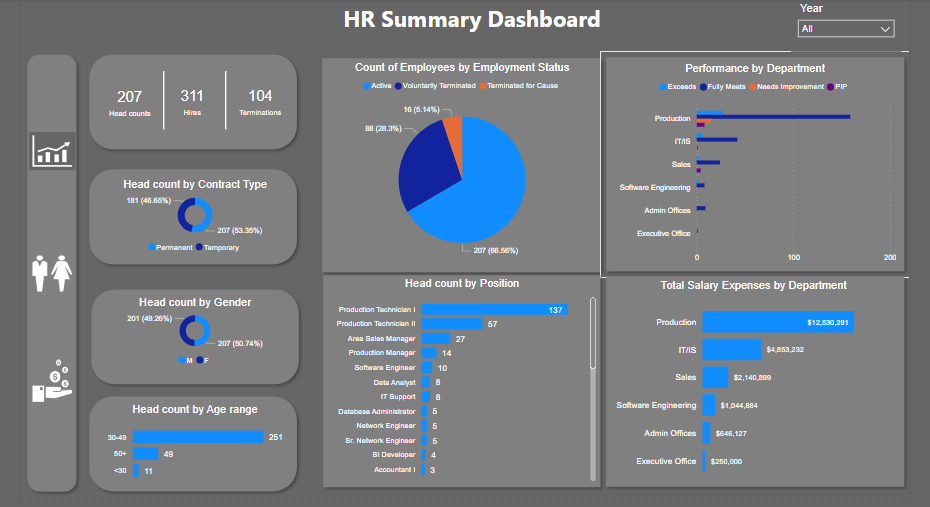

The dashboard page shown, as its layout file describes it:
{"tool":"powerbi","page":{"name":"Summary","canvas":[1280,720],"ordinal":0},"visuals":[{"type":"textbox","box":[426.7,0,446.8,60.5],"z":0},{"type":"shape","box":[88.7,70.5,317.5,154.5],"z":1000},{"type":"shape","box":[88.7,236.8,317.5,154.5],"z":2000},{"type":"shape","box":[92,409,317,155],"z":3000},{"type":"shape","box":[88.7,563.7,317.5,154.5],"z":4000},{"type":"shape","box":[424.4,75.9,419.2,326],"z":5000},{"type":"shape","box":[833.2,75.6,446.8,325.9],"z":6000},{"type":"shape","box":[426.1,388.1,417.5,322.6],"z":7000},{"type":"shape","box":[833.2,389.7,446.8,320.8],"z":8000},{"type":"shape","box":[0,70.9,89.3,647.8],"z":9000},{"type":"shape","box":[193.2,104.1,25.2,84],"z":10000},{"type":"shape","box":[282.2,104.1,25.2,84],"z":11000},{"type":"pieChart","title":"Count of Employees by Employment Status","fields":{"Y":["CountNonNull(HRDataset_v14.EmploymentStatus)"],"Category":["HRDataset_v14.EmploymentStatus"]},"box":[438.2,89.7,395,298.4],"z":12000},{"type":"clusteredBarChart","title":"Performance by Department","fields":{"Category":["HRDataset_v14.Department"],"Series":["HRDataset_v14.PerformanceScore"],"Y":["CountNonNull(HRDataset_v14.Department)"]},"box":[848.7,91.4,417.5,296.7],"z":13000},{"type":"slicer","fields":{"Values":["HRDataset_v14.DateofHire.Variation.Date Hierarchy.Year"]},"box":[1109.2,0,158.7,75.9],"z":14000},{"type":"donutChart","title":"Head count by Contract Type","fields":{"Category":["HRDataset_v14.Termd"],"Y":["HRDataset_v14.Cum_headCount"]},"box":[118,258,265,117],"z":15000},{"type":"donutChart","title":"Head count by Gender","fields":{"Category":["HRDataset_v14.Sex"],"Y":["HRDataset_v14.Cum_headCount"]},"box":[118,428,265,110],"z":16000},{"type":"clusteredBarChart","title":"Head count by Position","fields":{"Category":["HRDataset_v14.Position"],"Y":["CountNonNull(HRDataset_v14.EmpID)"]},"box":[438,400,395,299],"z":17000},{"type":"clusteredBarChart","title":"Head count by Age range","fields":{"Category":["HRDataset_v14.Age Category"],"Y":["CountNonNull(HRDataset_v14.Age)"]},"box":[118,582,265,122],"z":18000},{"type":"clusteredBarChart","title":"Total Salary Expenses by Department","fields":{"Category":["HRDataset_v14.Department"],"Y":["Sum(HRDataset_v14.Salary)"]},"box":[843,403,425,299],"z":19000},{"type":"card","title":"Head counts","fields":{"Values":["HRDataset_v14.Cum_headCount"]},"box":[119,108.7,74.2,79.4],"z":20000},{"type":"card","title":"Hires","fields":{"Values":["CountNonNull(HRDataset_v14.DateofHire)"]},"box":[212,104,70,84],"z":21000},{"type":"card","title":"Terminations","fields":{"Values":["HRDataset_v14.TerminationCount"]},"box":[300,107,90,79],"z":22000},{"type":"image","title":"Summary","box":[11.3,191.4,66.6,55.3],"z":23000},{"type":"image","box":[11.3,364.3,66.6,62.4],"z":24000},{"type":"image","box":[11.3,514.6,66.6,70.9],"z":25000}]}

Visuals, with their boxes on the page's 1280x720 design canvas (x1, y1, x2, y2). These are canvas units, not pixel positions in the 930x507 screenshot, which may show the page scaled, cropped or inside an application window:
textbox: locate(427, 0, 874, 60)
shape: locate(89, 70, 406, 225)
shape: locate(89, 237, 406, 391)
shape: locate(92, 409, 409, 564)
shape: locate(89, 564, 406, 718)
shape: locate(424, 76, 844, 402)
shape: locate(833, 76, 1280, 402)
shape: locate(426, 388, 844, 711)
shape: locate(833, 390, 1280, 710)
shape: locate(0, 71, 89, 719)
shape: locate(193, 104, 218, 188)
shape: locate(282, 104, 307, 188)
"Count of Employees by Employment Status" pieChart: locate(438, 90, 833, 388)
"Performance by Department" clusteredBarChart: locate(849, 91, 1266, 388)
slicer - HRDataset_v14.DateofHire.Variation.Date Hierarchy.Year: locate(1109, 0, 1268, 76)
"Head count by Contract Type" donutChart: locate(118, 258, 383, 375)
"Head count by Gender" donutChart: locate(118, 428, 383, 538)
"Head count by Position" clusteredBarChart: locate(438, 400, 833, 699)
"Head count by Age range" clusteredBarChart: locate(118, 582, 383, 704)
"Total Salary Expenses by Department" clusteredBarChart: locate(843, 403, 1268, 702)
"Head counts" card: locate(119, 109, 193, 188)
"Hires" card: locate(212, 104, 282, 188)
"Terminations" card: locate(300, 107, 390, 186)
"Summary" image: locate(11, 191, 78, 247)
image: locate(11, 364, 78, 427)
image: locate(11, 515, 78, 586)
